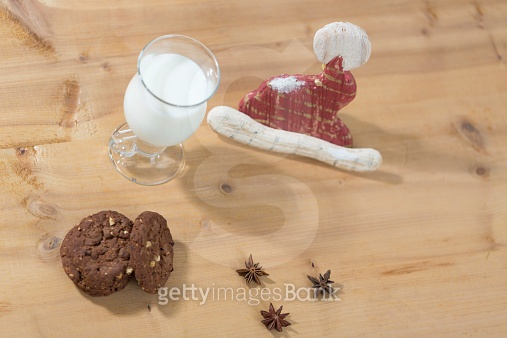glass of milk: (108, 35, 217, 190)
